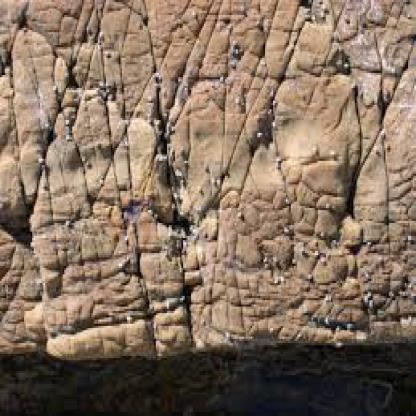Metamorphic_Marble: (5, 2, 414, 330)
